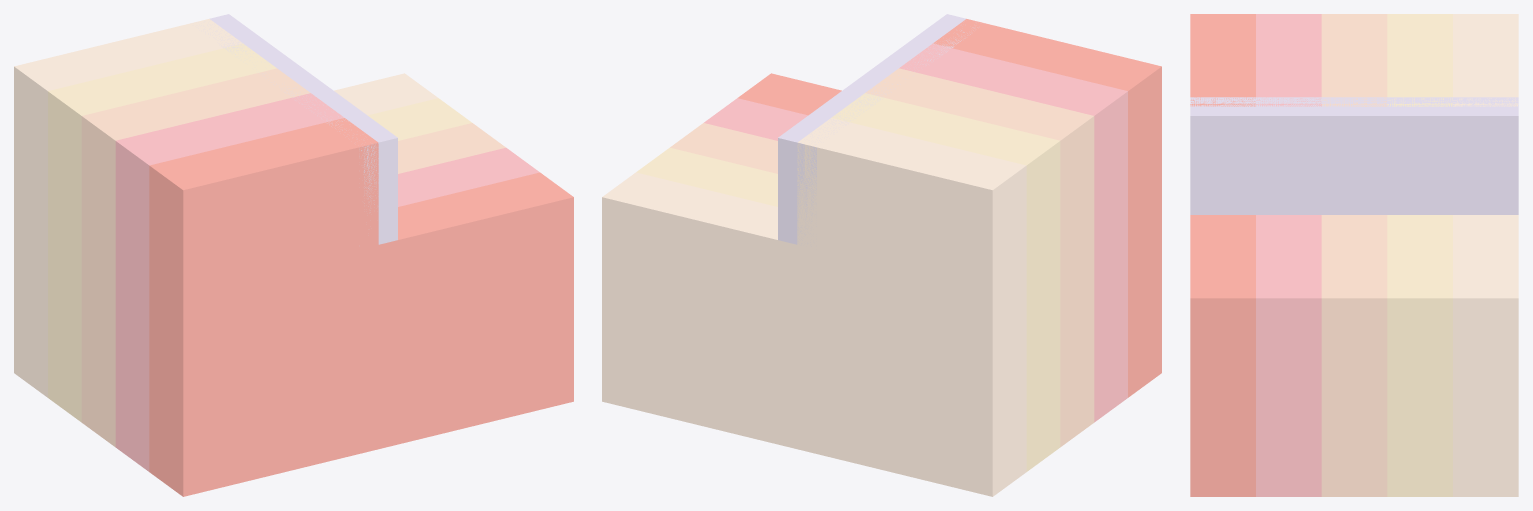
The model's file is 3d_building_demo.glb.
3 renders of one model, left to right at view 1: azimuth 30°, elevation 25°; view 2: azimuth 150°, elevation 25°; view 3: azimuth 270°, elevation 25°, orthographic. The views are drawn at different scales.
Size of the model in its own units: 20 by 15 by 15.
